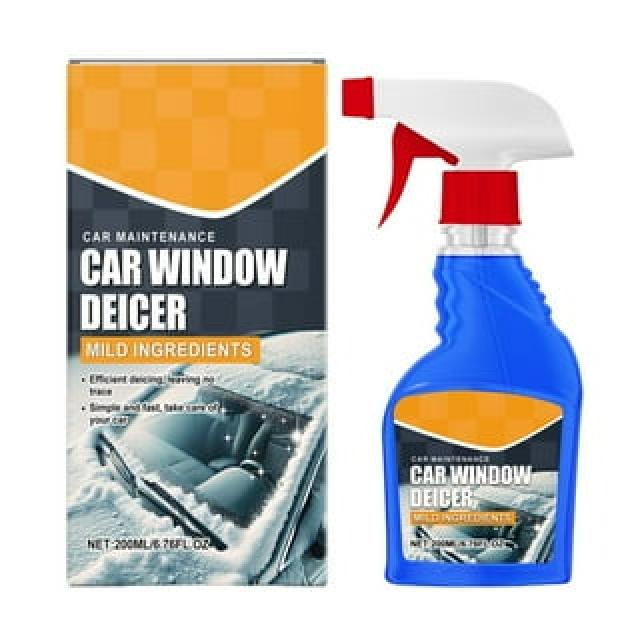winwinshield_washer: (338, 71, 585, 590)
